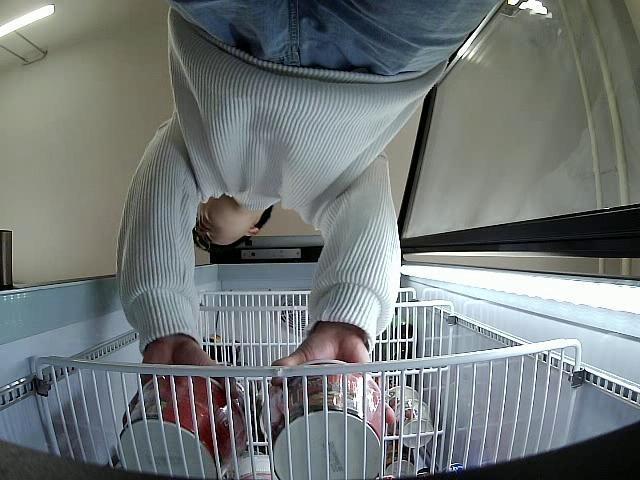01_ShinRamen_L: (263, 357, 386, 480), (114, 373, 247, 480)
